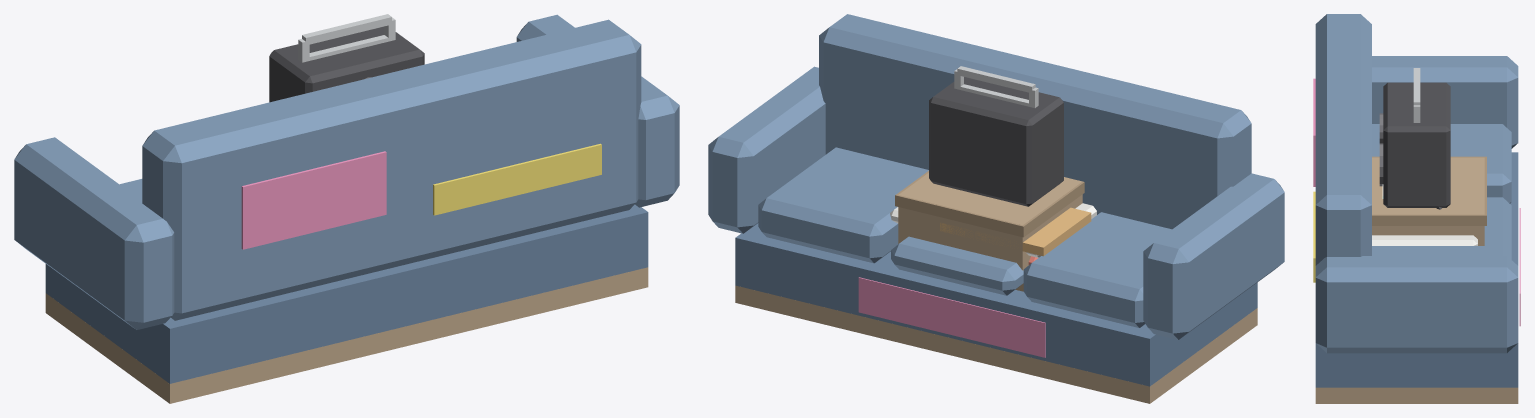
Rendered from skate_hangout.glb.
3 views of the same model, side by side, from view 1: azimuth 30°, elevation 25°; view 2: azimuth 150°, elevation 25°; view 3: azimuth 270°, elevation 25° (orthographic). The views are drawn at different scales.
Parts seen in each view (by area): view 1: sk_sofa_mesh, sk_speaker_mesh; view 2: sk_sofa_mesh, sk_speaker_mesh; view 3: sk_sofa_mesh, sk_speaker_mesh, sk_cooler_mesh.
Part boxes in pixels (x1=…): sk_sofa_mesh: x1=14, y1=14, x2=679, y2=403; sk_speaker_mesh: x1=269, y1=14, x2=424, y2=102; sk_sofa_mesh: x1=708, y1=14, x2=1284, y2=403; sk_speaker_mesh: x1=895, y1=66, x2=1084, y2=291; sk_sofa_mesh: x1=1313, y1=14, x2=1520, y2=403; sk_speaker_mesh: x1=1372, y1=68, x2=1486, y2=245; sk_cooler_mesh: x1=1372, y1=235, x2=1477, y2=245.
Bounding box in the file's own units: 2.32 × 1.15 × 0.92.
